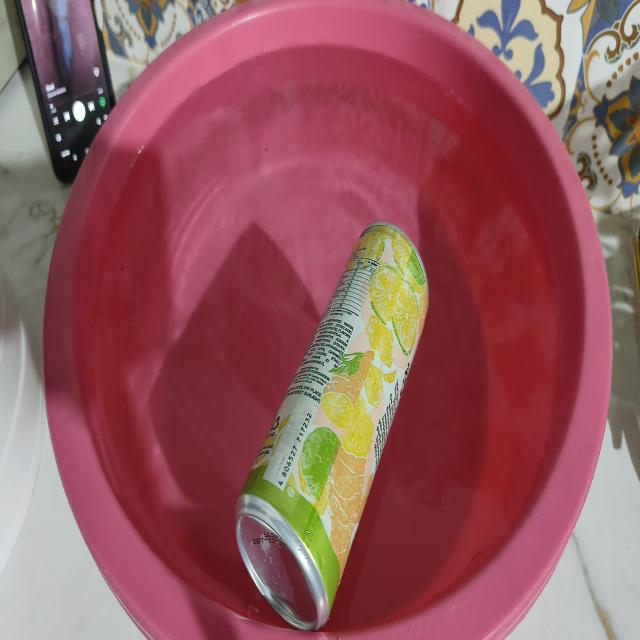Aluminum Can: (235, 222, 429, 631)
